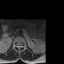CCS_normal: (18, 43, 20, 50)
LFS_normal: (22, 44, 23, 48)
LLS_normal: (20, 44, 21, 49)
RFS_normal: (15, 43, 16, 48)
RLS_normal: (16, 43, 18, 49)
